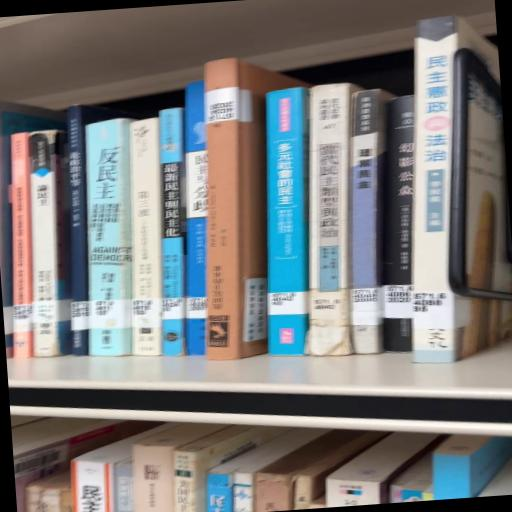reverse: (205, 59, 311, 361)
